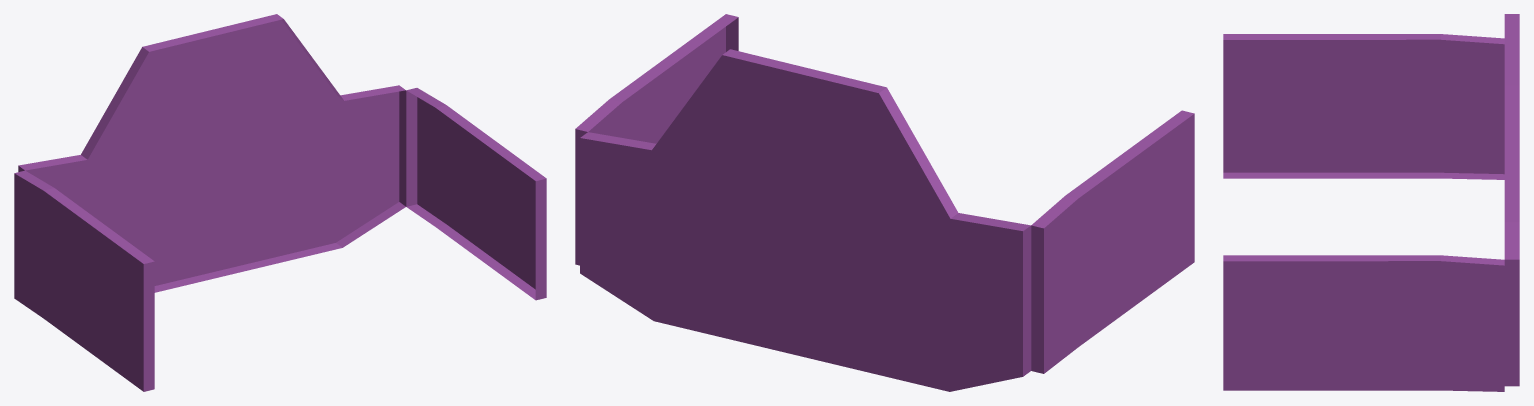
Rendered from Glass.fbx.
The picture shows the model from 3 angles, left to right: view 1: azimuth 30°, elevation 25°; view 2: azimuth 150°, elevation 25°; view 3: azimuth 270°, elevation 25°; orthographic projection. The views are drawn at different scales.
Parts seen in each view (by area): view 1: Glass; view 2: Glass; view 3: Glass.
Part boxes in pixels (x1=…): Glass: x1=14, y1=14, x2=546, y2=391; Glass: x1=575, y1=14, x2=1194, y2=391; Glass: x1=1223, y1=14, x2=1519, y2=391.
Size of the model in its own units: 555 by 320 by 326.
